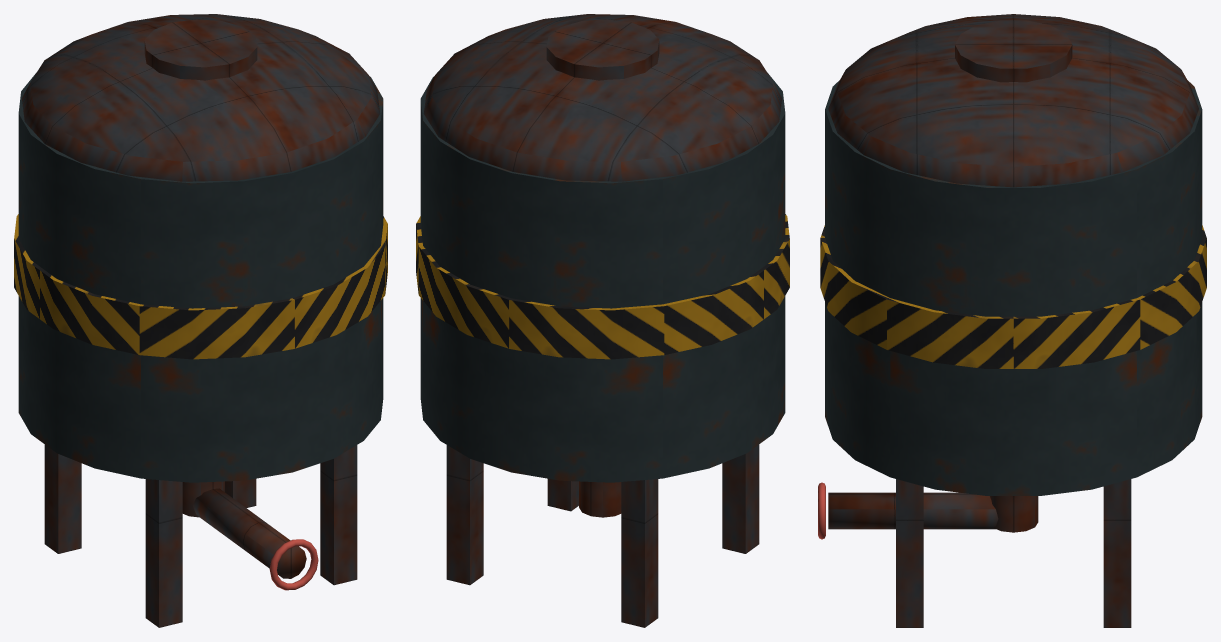
The model's file is Prop_ChemicalVat.fbx.
3 views of the same model, side by side, from view 1: azimuth 30°, elevation 25°; view 2: azimuth 150°, elevation 25°; view 3: azimuth 270°, elevation 25° (orthographic). The views are drawn at different scales.
Visible parts, largest first — view 1: Prop_ChemicalVat; view 2: Prop_ChemicalVat; view 3: Prop_ChemicalVat.
Part boxes in pixels (x1,y1,x2,y2): Prop_ChemicalVat: (14, 14, 387, 627); Prop_ChemicalVat: (416, 14, 789, 627); Prop_ChemicalVat: (818, 14, 1206, 627).
Bounding box in the file's own units: 2.47 × 3.81 × 2.52.
